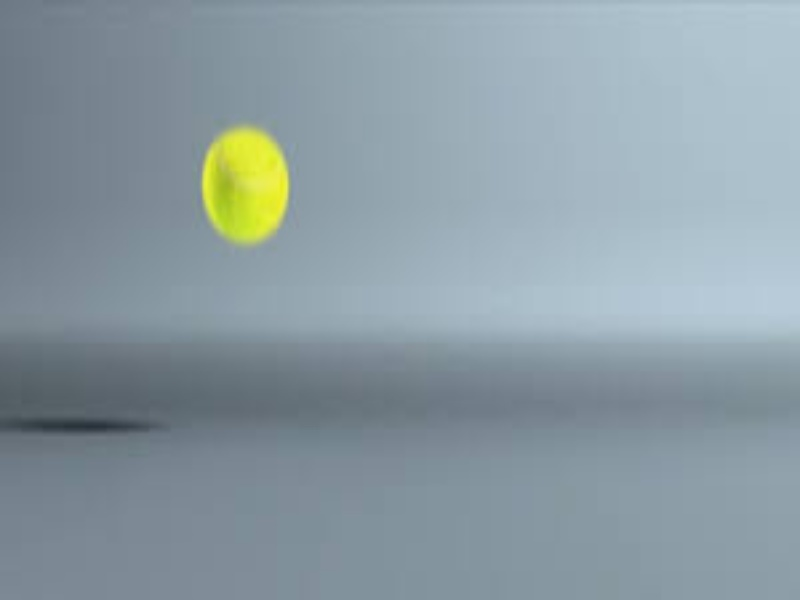tennis ball: (195, 118, 303, 259)
